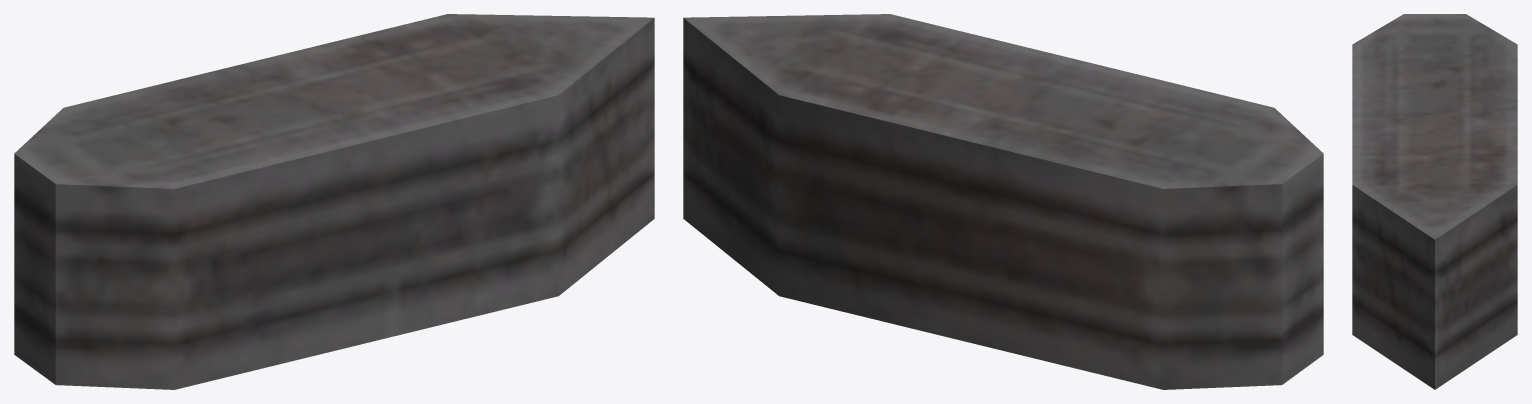
The model's file is sm_dwarf_iron_sword_guard_a.fbx.
3 views of the same model, side by side, from view 1: azimuth 30°, elevation 25°; view 2: azimuth 150°, elevation 25°; view 3: azimuth 270°, elevation 25° (orthographic). The views are drawn at different scales.
Parts seen in each view (by area): view 1: sm_dwarf_iron_sword_guard_a; view 2: sm_dwarf_iron_sword_guard_a; view 3: sm_dwarf_iron_sword_guard_a.
Part boxes in pixels (box(x1,y1,x2,y2)): sm_dwarf_iron_sword_guard_a: box(14, 14, 654, 389); sm_dwarf_iron_sword_guard_a: box(683, 14, 1323, 389); sm_dwarf_iron_sword_guard_a: box(1352, 14, 1517, 389).
Bounding box in the file's own units: 0.129 × 0.04 × 0.04.
Materials: 1 (1 with a texture image).
